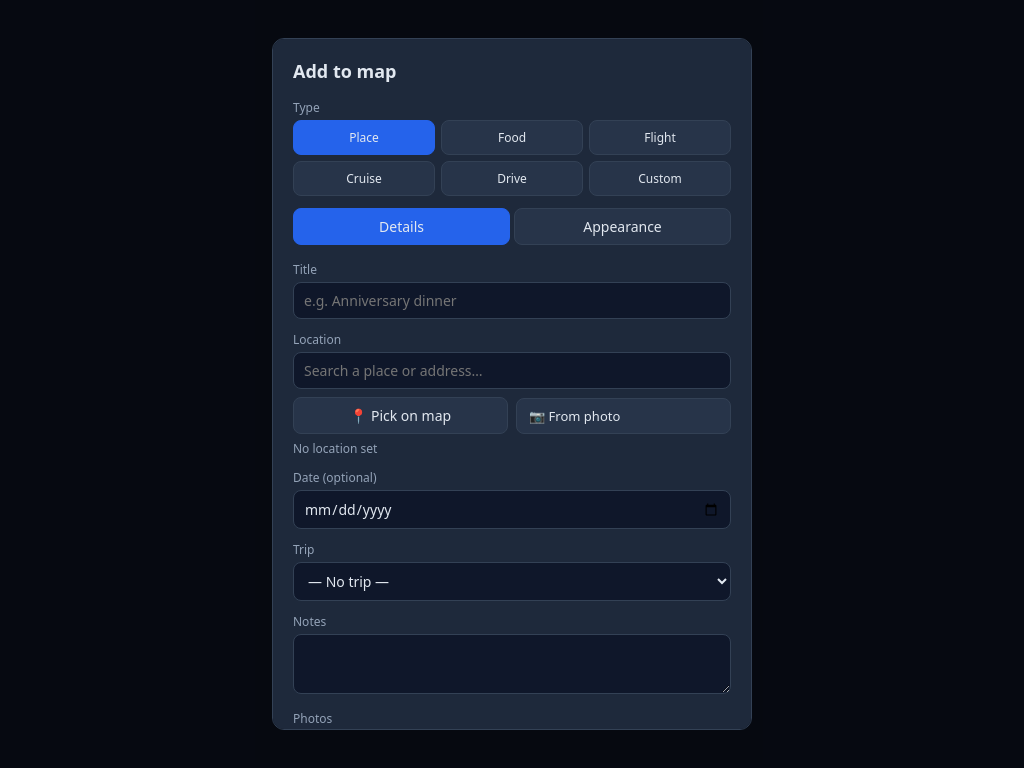
switches tabs between Details and Appearance
Click the button "Appearance" at (622, 227), box [514, 208, 731, 245]
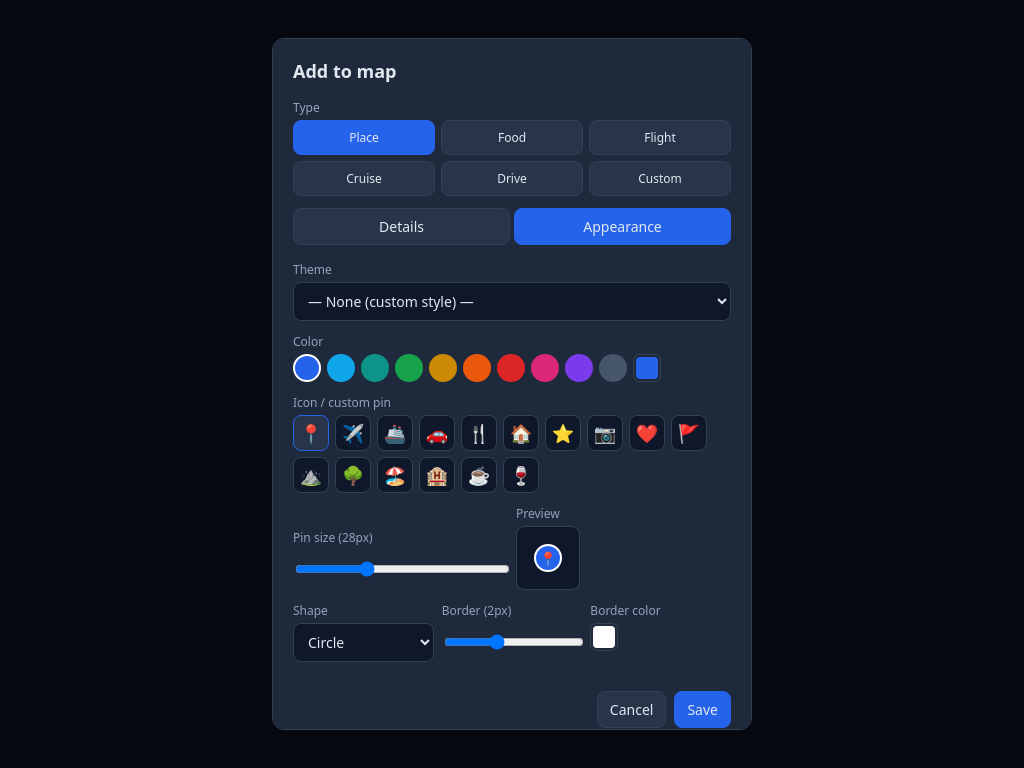
expect the text "Theme" is shown: met, box [293, 261, 332, 278]
